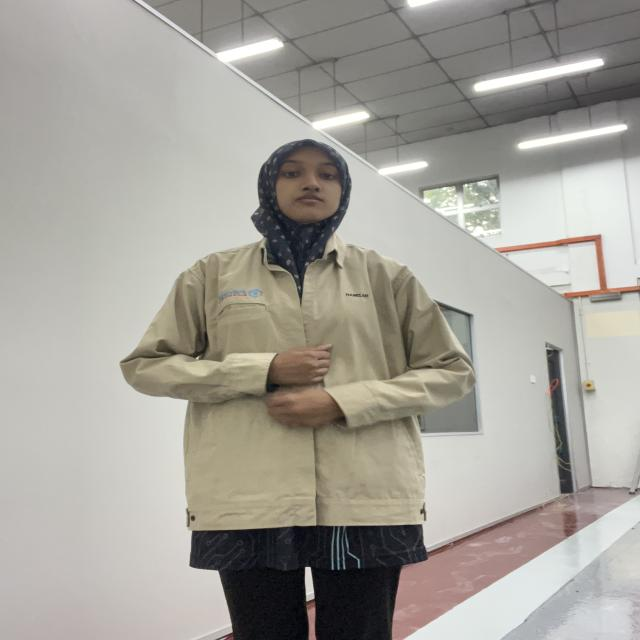person_with_labcoat: (121, 140, 475, 640)
